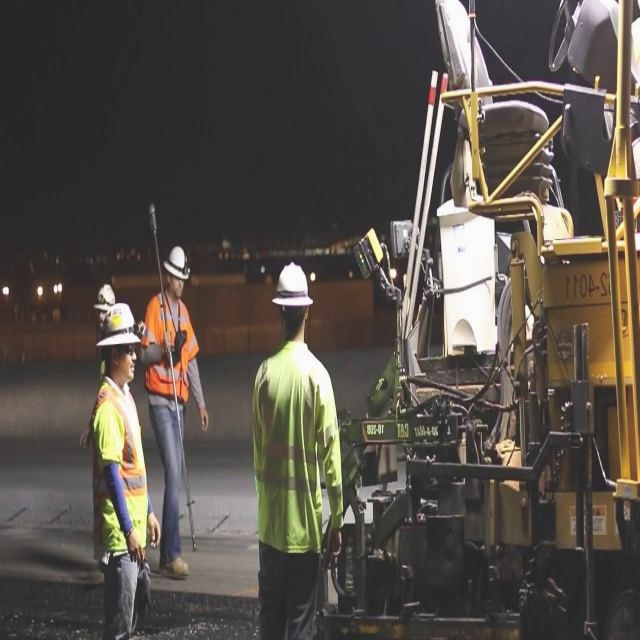Con_Casco: (97, 306, 144, 373), (272, 259, 311, 333), (162, 246, 190, 296)
Con_Chaleco: (257, 354, 327, 547), (89, 383, 145, 558)
